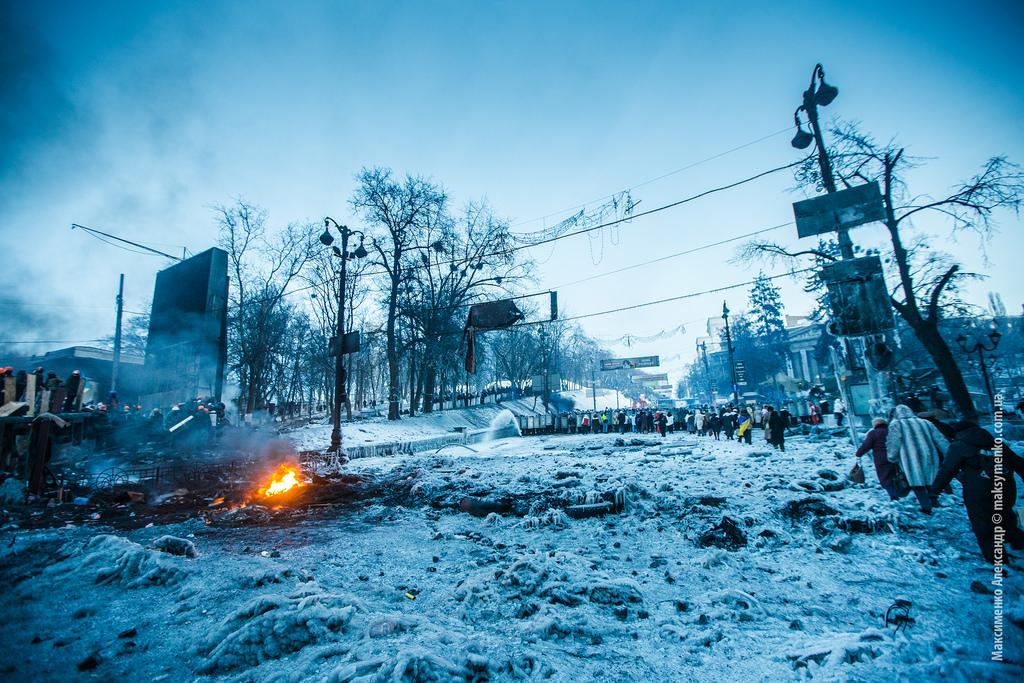fire: (255, 470, 302, 502)
